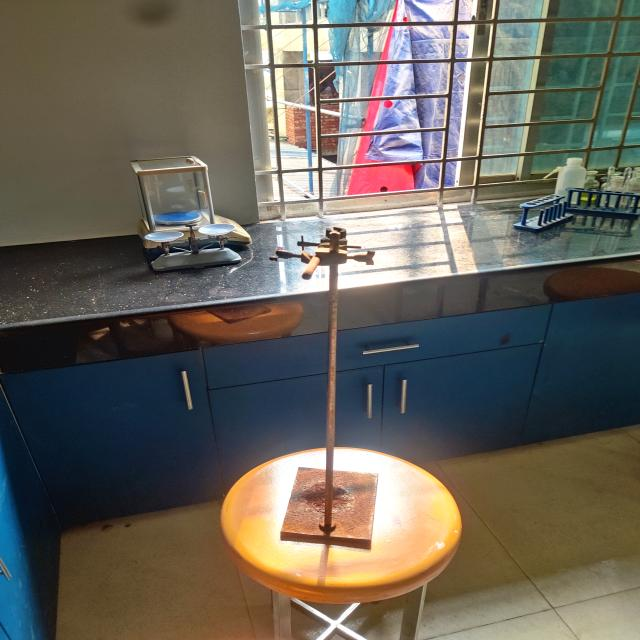Burette_Stands: (254, 213, 416, 573)
